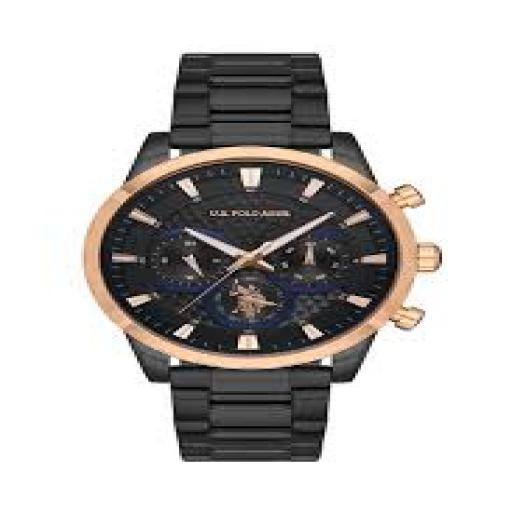KolSaati: (80, 30, 454, 472)
